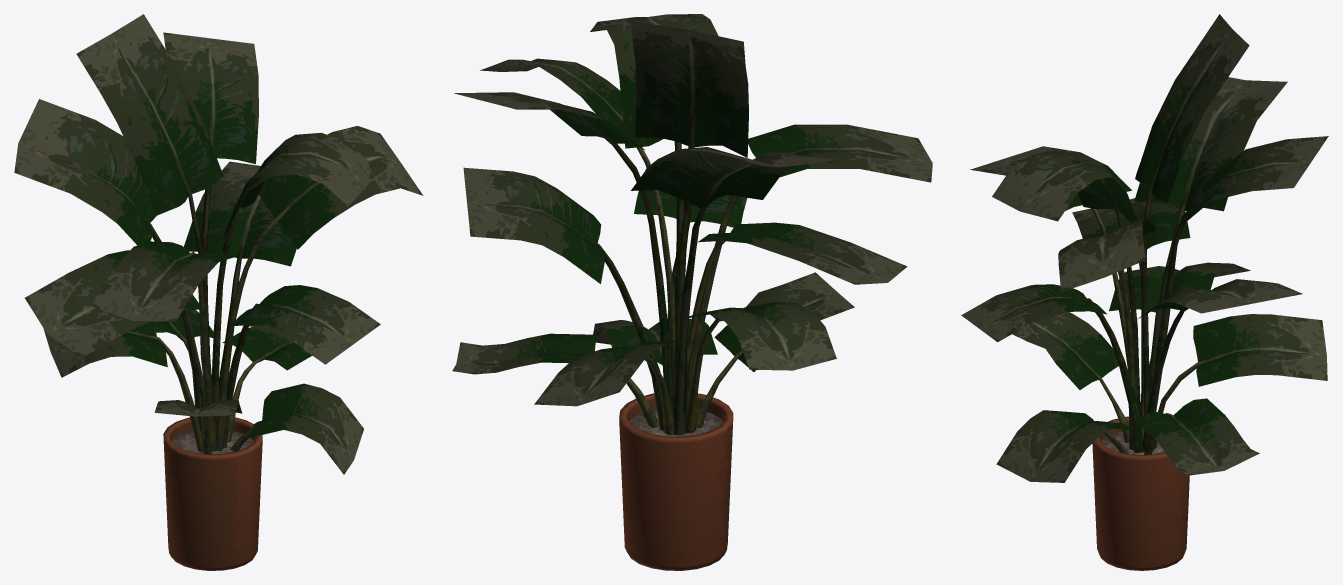
The model's file is Furniture_foliageplant_04b_LOD0 #39154.fbx.
3 renders of one model, left to right at view 1: azimuth 30°, elevation 25°; view 2: azimuth 150°, elevation 25°; view 3: azimuth 270°, elevation 25°, orthographic. The views are drawn at different scales.
Parts seen in each view (by area): view 1: F_foliageplant_04b_m2, F_foliageplant_04b_m1; view 2: F_foliageplant_04b_m2, F_foliageplant_04b_m1; view 3: F_foliageplant_04b_m2, F_foliageplant_04b_m1.
Part boxes in pixels (bbox=[...]): F_foliageplant_04b_m2: bbox=[14, 14, 423, 474]; F_foliageplant_04b_m1: bbox=[163, 417, 262, 570]; F_foliageplant_04b_m2: bbox=[452, 14, 932, 435]; F_foliageplant_04b_m1: bbox=[619, 393, 733, 570]; F_foliageplant_04b_m2: bbox=[961, 14, 1328, 482]; F_foliageplant_04b_m1: bbox=[1092, 416, 1189, 570].
Bounding box in the file's own units: 0.8388 × 1.17 × 0.7776.
Materials: 2 (2 with a texture image).
